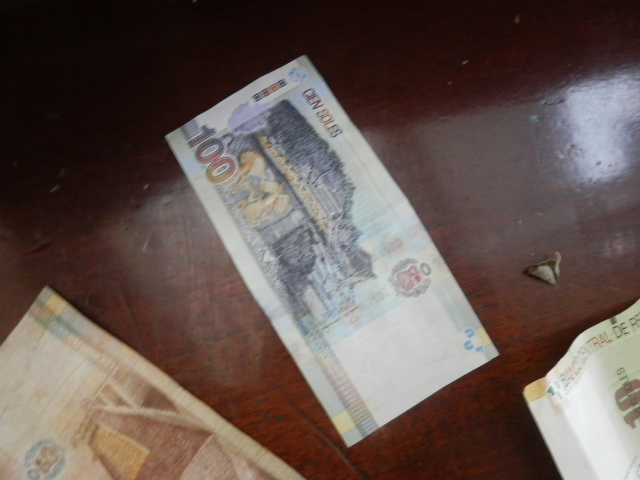B100: (168, 55, 521, 440)
